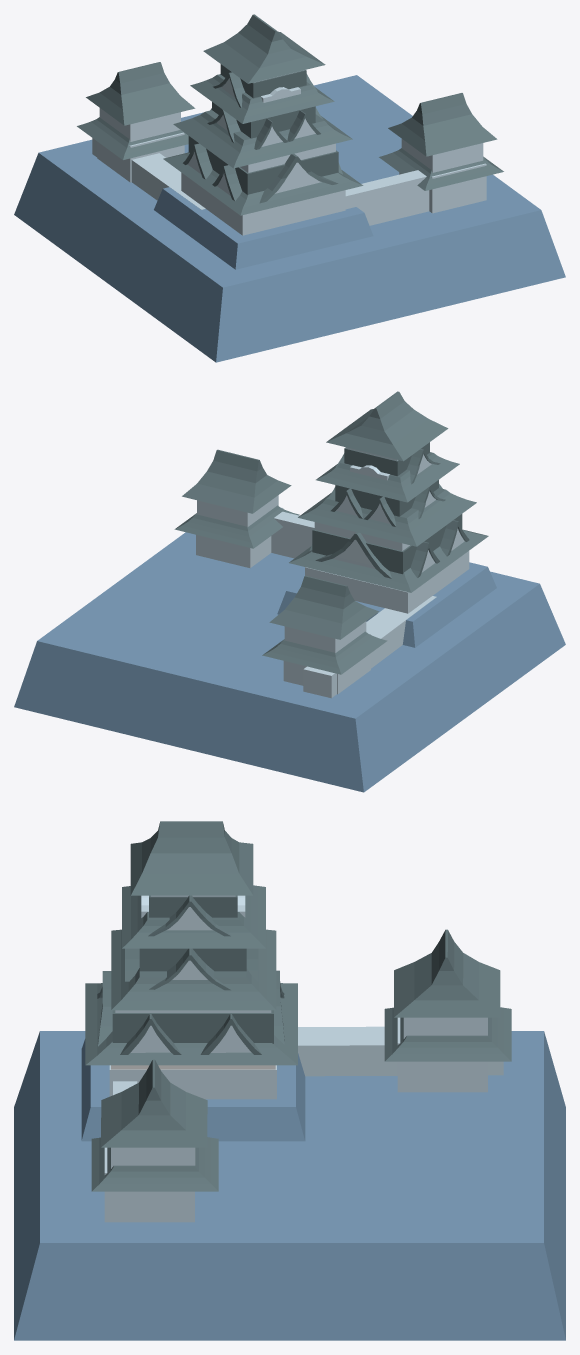
Rendered from ozu-castle-3d.glb.
The picture shows the model from 3 angles, top to bottom: view 1: azimuth 30°, elevation 25°; view 2: azimuth 150°, elevation 25°; view 3: azimuth 270°, elevation 25°; orthographic projection. The views are drawn at different scales.
Parts seen in each view (by area): view 1: Cube, 立方体, 立方体.006, 立方体.004, 立方体.038, 立方体.023, 立方体.018, 立方体.017, 立方体.001, 立方体.016, 立方体.036, 立方体.027 (+14 smaller); view 2: Cube, 立方体.006, 立方体.004, 立方体.038, 立方体.023, 立方体, 立方体.001, 立方体.018, 立方体.016, 立方体.025, 立方体.036, 立方体.027 (+12 smaller); view 3: Cube, 立方体.006, 立方体, 立方体.004, 立方体.023, 立方体.038, 立方体.001, 立方体.016, 立方体.025, 立方体.027, 立方体.036, 立方体.018 (+14 smaller).
Boxes of the visible parts, x1,y1,x2,y2 form: Cube: [14, 75, 565, 362]; 立方体: [154, 187, 373, 269]; 立方体.006: [203, 14, 325, 83]; 立方体.004: [173, 110, 352, 168]; 立方体.038: [86, 62, 195, 125]; 立方体.023: [388, 93, 497, 156]; 立方体.018: [181, 172, 345, 235]; 立方体.017: [345, 170, 429, 225]; 立方体.001: [163, 152, 363, 215]; 立方体.016: [190, 74, 334, 123]; 立方体.036: [77, 117, 188, 159]; 立方体.027: [379, 148, 503, 190]; Cube: [14, 532, 565, 792]; 立方体.006: [326, 391, 448, 461]; 立方体.004: [298, 488, 476, 546]; 立方体.038: [269, 575, 378, 639]; 立方体.023: [182, 449, 291, 513]; 立方体: [277, 562, 496, 647]; 立方体.001: [289, 529, 488, 592]; 立方体.018: [305, 551, 469, 613]; 立方体.016: [316, 452, 459, 502]; 立方体.025: [303, 596, 436, 698]; 立方体.036: [262, 631, 387, 674]; 立方体.027: [174, 505, 299, 548]; Cube: [14, 1031, 565, 1340]; 立方体.006: [130, 821, 253, 895]; 立方体: [81, 1039, 305, 1141]; 立方体.004: [111, 929, 276, 1010]; 立方体.023: [101, 1059, 207, 1147]; 立方体.038: [394, 929, 500, 1017]; 立方体.001: [85, 983, 297, 1065]; 立方体.016: [122, 885, 265, 948]; 立方体.025: [298, 1026, 503, 1076]; 立方体.027: [91, 1137, 218, 1191]; 立方体.036: [384, 1007, 511, 1061]; 立方体.018: [109, 1065, 276, 1099].
Size of the model in its own units: 9.91 by 7.16 by 9.91.
